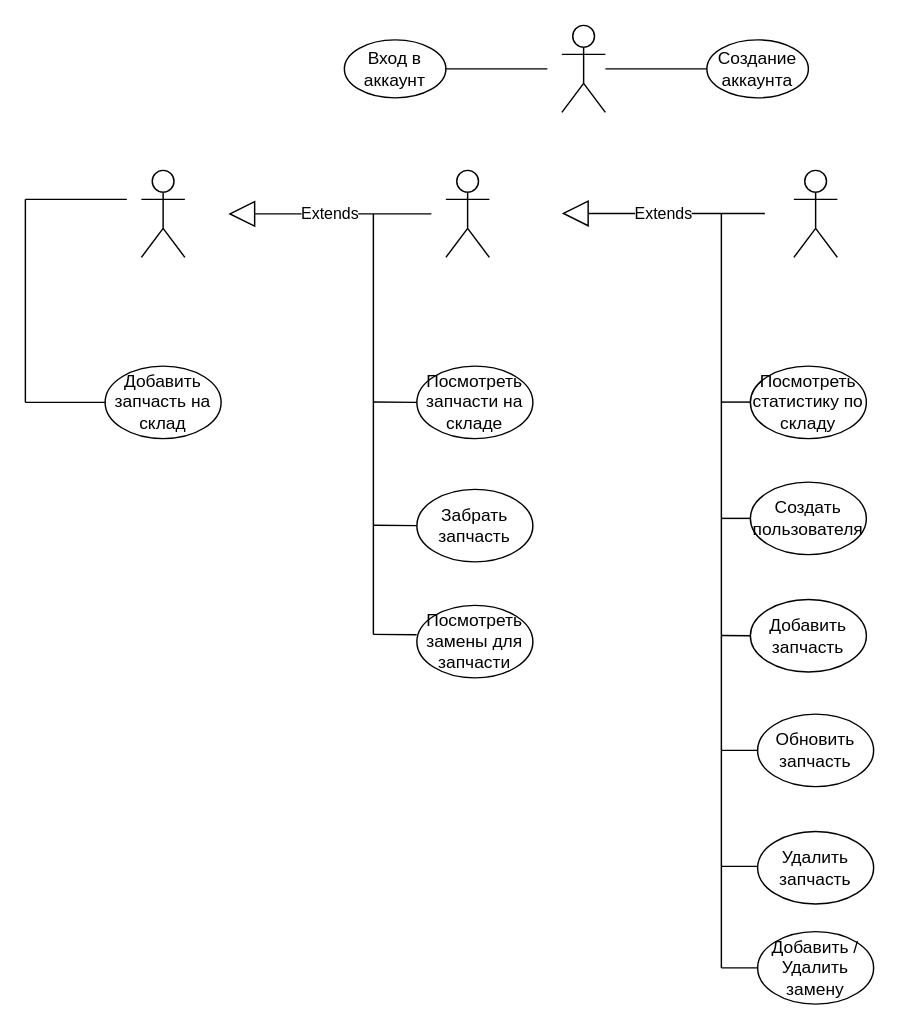
Some shapes in this 903 by 1030 pixel diagram are drawn without their labels. Here are the shapes that lost their labels. From the top down, the centre of each, then its label:
At pixel 582 68: "Гость".
At pixel 162 213: "Кладовщик".
At pixel 466 213: "Продавец".
At pixel 814 213: "Администратор".
